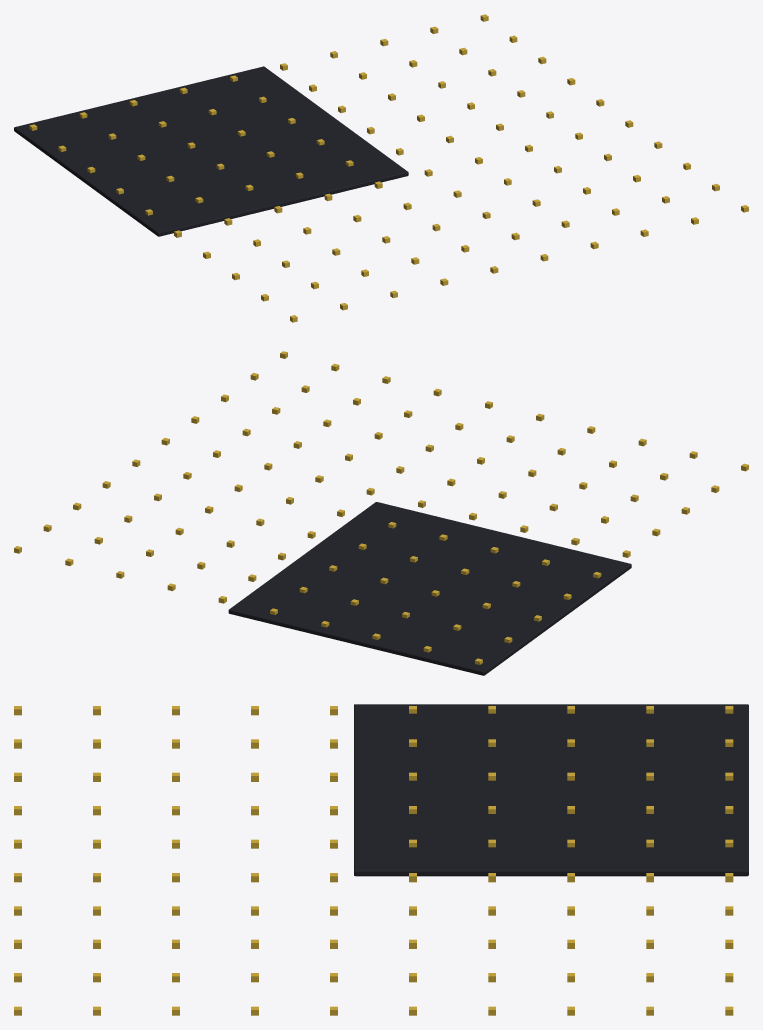
The picture shows the model from 3 angles, top to bottom: view 1: azimuth 30°, elevation 25°; view 2: azimuth 150°, elevation 25°; view 3: azimuth 270°, elevation 25°; orthographic projection. The views are drawn at different scales.
Parts seen in each view (by area): view 1: part_022; view 2: part_022; view 3: part_022.
Boxes of the visible parts, box(x1,y1,x2,y2) form: part_022: box(14, 14, 748, 322); part_022: box(14, 351, 748, 675); part_022: box(14, 704, 748, 1015).
Size of the model in its own units: 1.12 by 0.0175 by 1.12.
